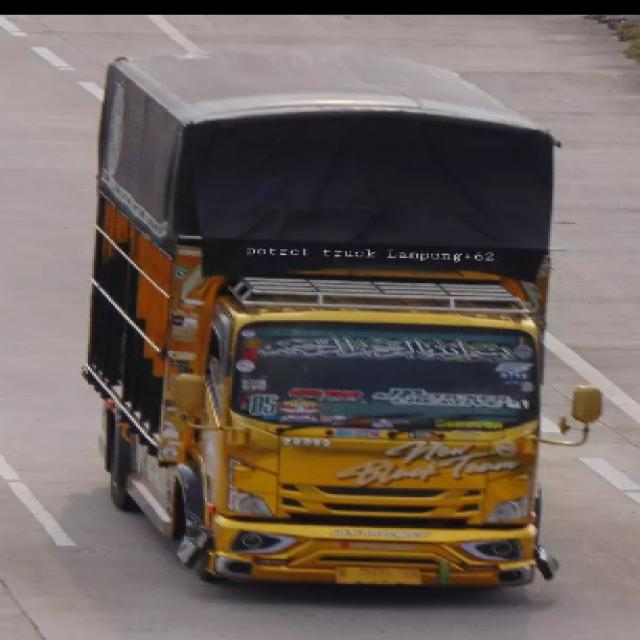Truck: (52, 33, 618, 608)
